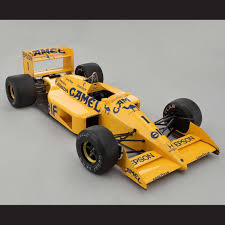FormulaOneCar: (4, 42, 222, 191)
